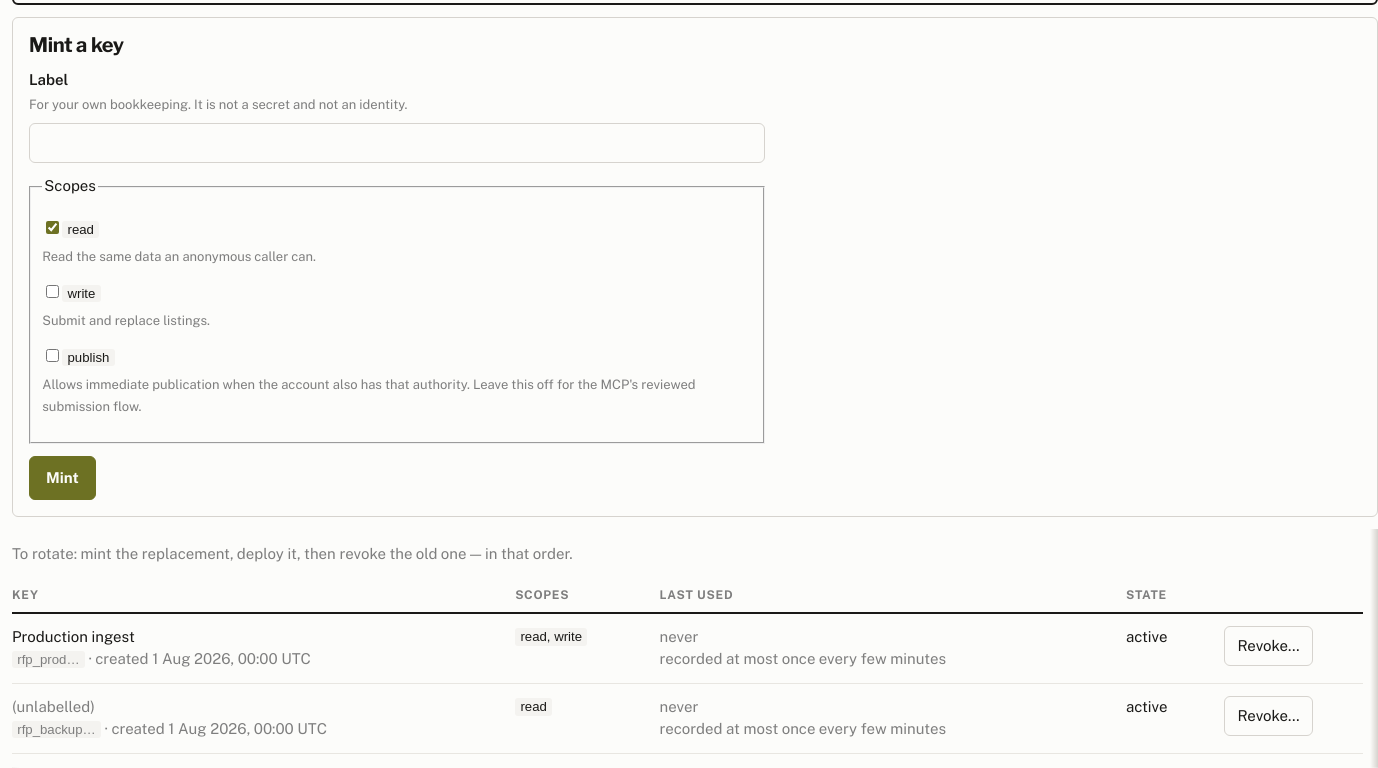
it: revoking a key › revokes the intended key and falls back to its prefix when it has no label
The image size is (1378, 768).
(page scrolled)
Step 1. Click the button "Revoke…" in the row of "(unlabelled)" → coordinates (1268, 716), box x1=1224 y1=696 x2=1313 y2=736
(page scrolled)
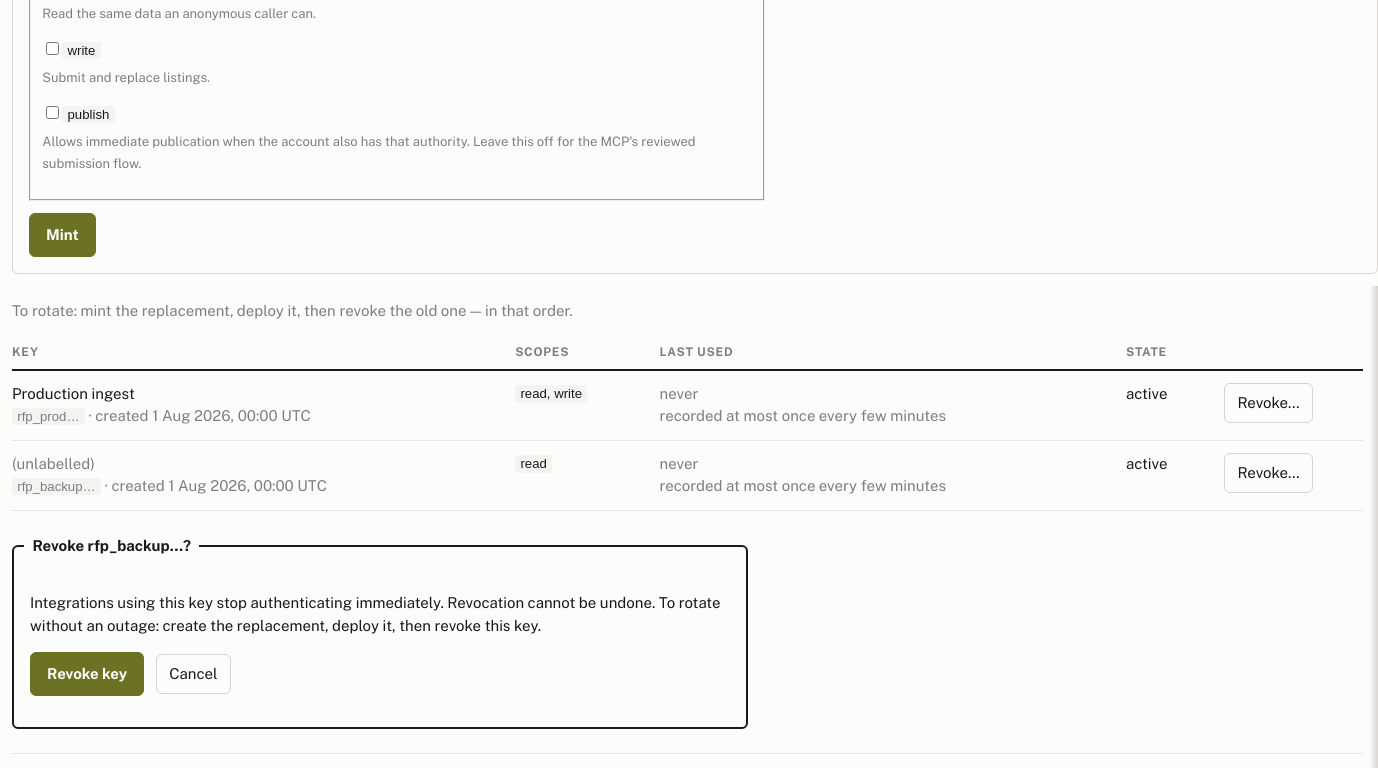
Step 2. Click the button "Revoke key" → coordinates (87, 674), box x1=30 y1=652 x2=144 y2=696
(page scrolled)
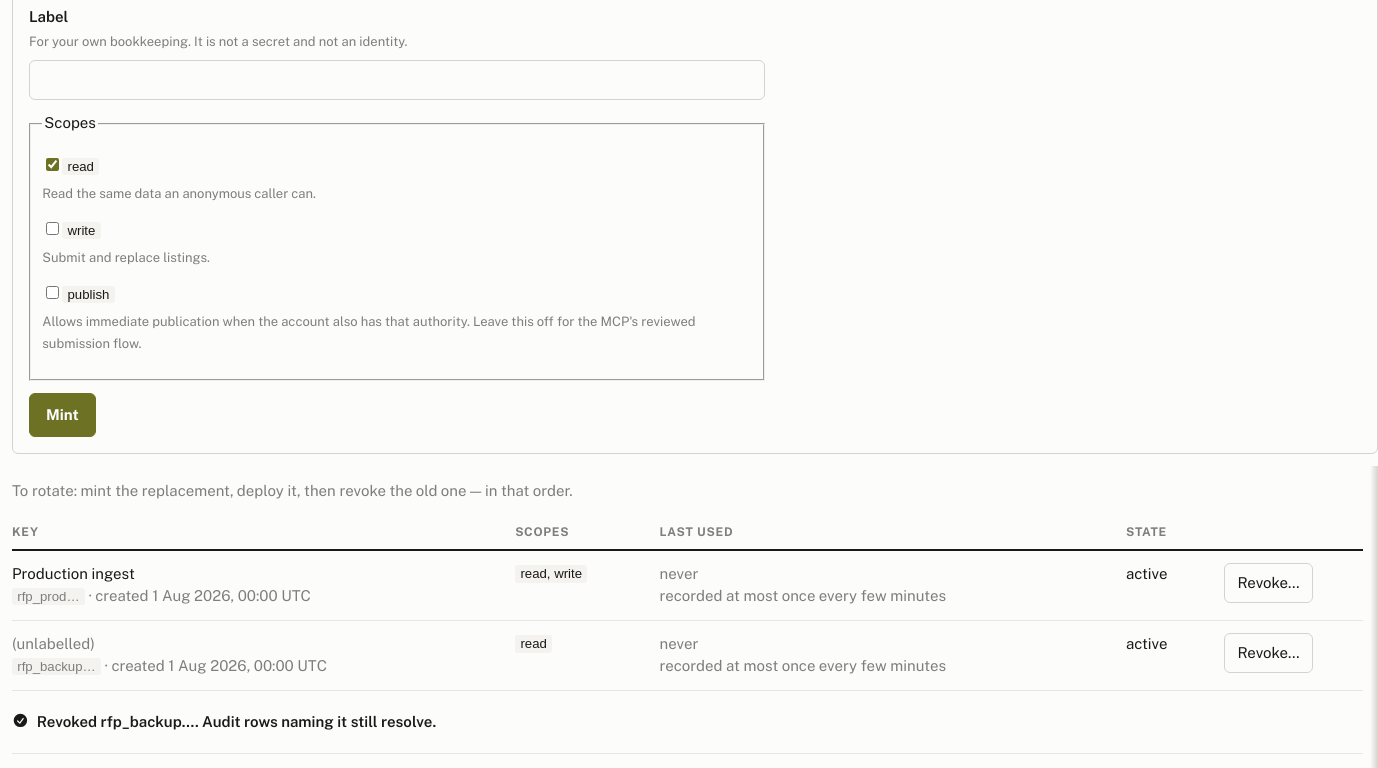
Expected: the text "Revoke rfp_backup…?" is gone
